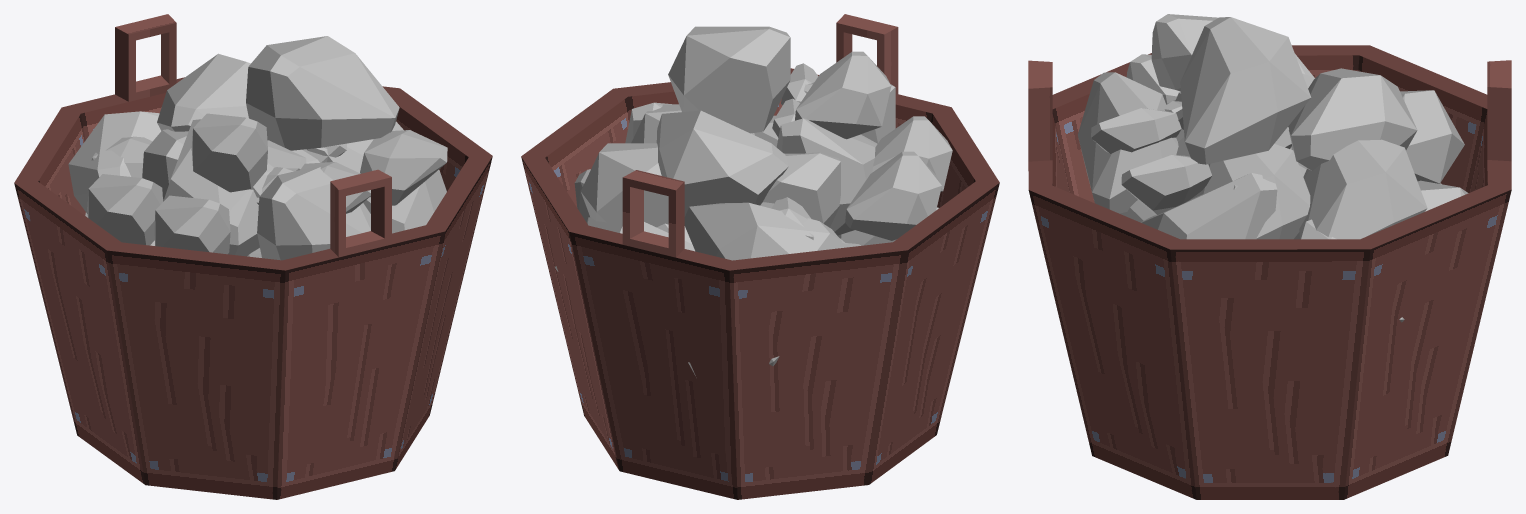
The model's file is BaldeFerro.fbx.
3 views of the same model, side by side, from view 1: azimuth 30°, elevation 25°; view 2: azimuth 150°, elevation 25°; view 3: azimuth 270°, elevation 25° (orthographic). The views are drawn at different scales.
Parts seen in each view (by area): view 1: Ferro; view 2: Ferro; view 3: Ferro.
Boxes of the visible parts, x1=… form: Ferro: x1=14, y1=14, x2=492, y2=499; Ferro: x1=521, y1=14, x2=999, y2=499; Ferro: x1=1028, y1=14, x2=1511, y2=499.
Bounding box in the file's own units: 104 × 97.85 × 104.
Materials: 2 (1 with a texture image).
